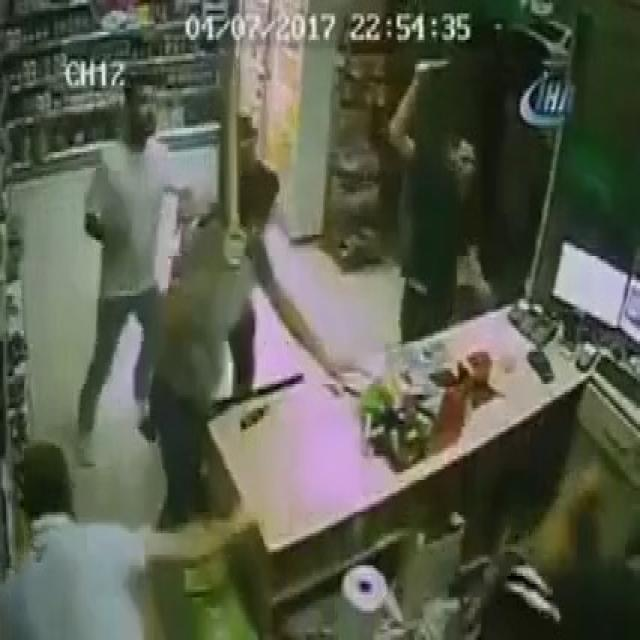fight: (93, 48, 316, 465)
